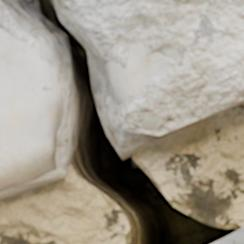brick: (215, 227, 243, 243)
broken_brick: (63, 0, 243, 156), (0, 2, 70, 200)
crack: (0, 0, 241, 243)
